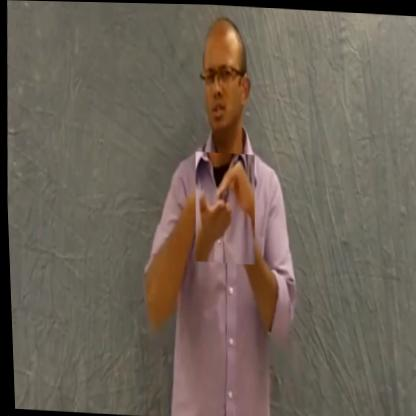ExcuseMe: (190, 151, 257, 263)
